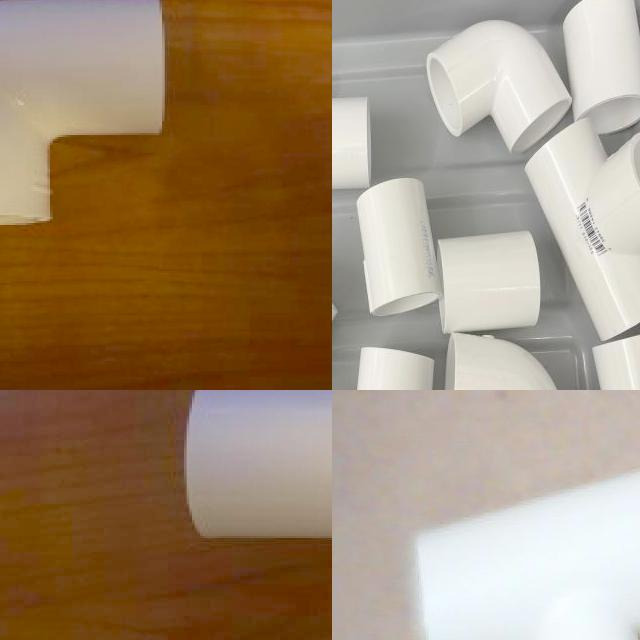L Joint: (182, 390, 332, 543), (424, 20, 572, 155), (446, 333, 557, 390)
T Joint: (412, 470, 640, 640), (524, 118, 640, 339)
